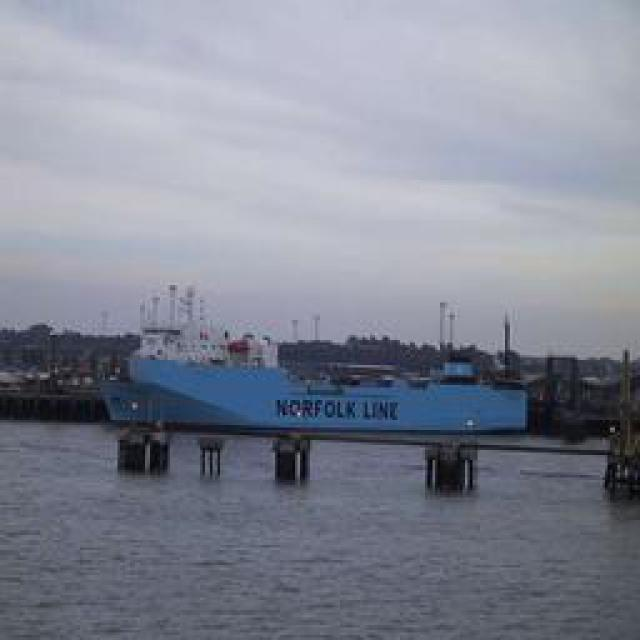Ship: (107, 309, 525, 444)
